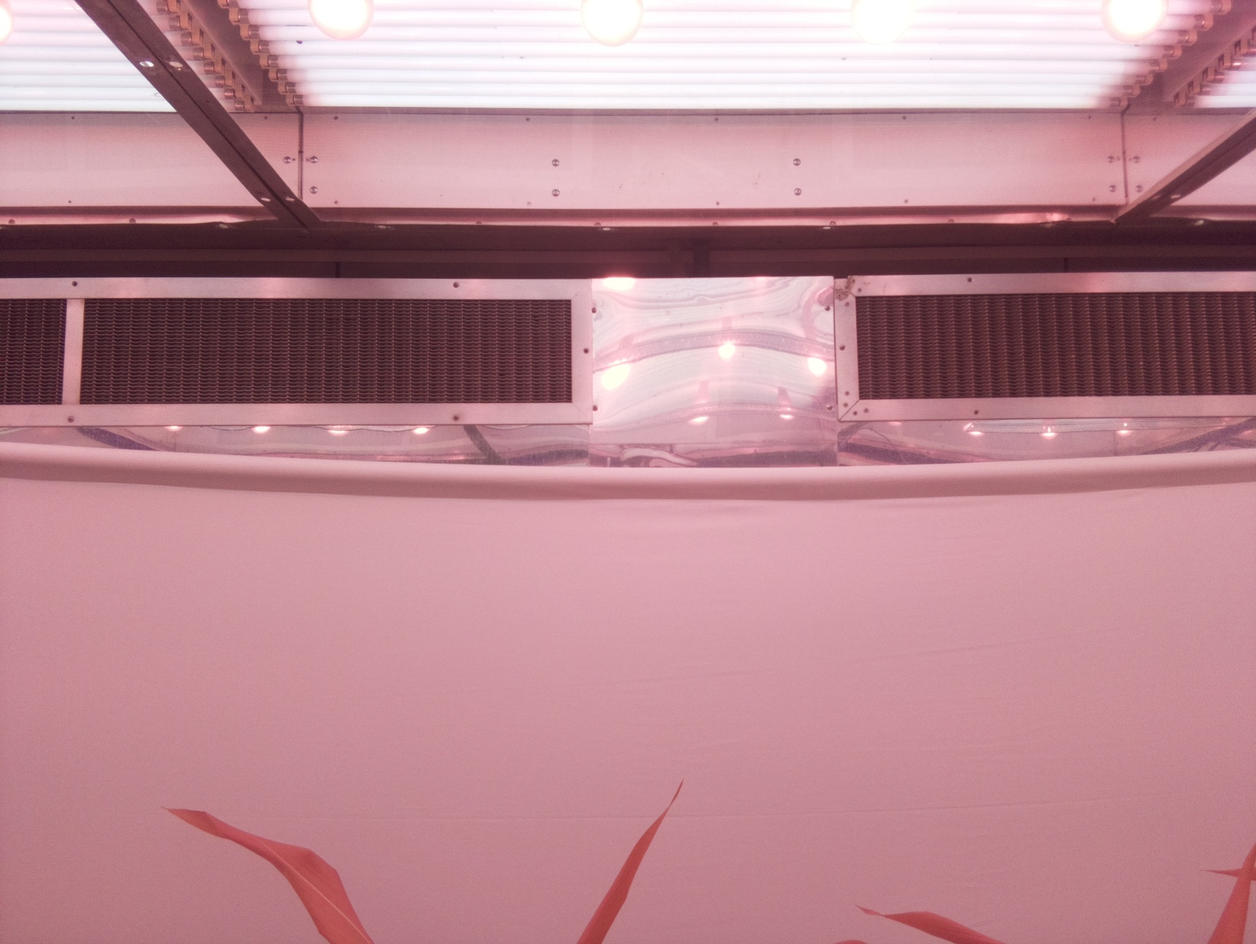maize: (159, 778, 685, 944), (845, 841, 1256, 944)
